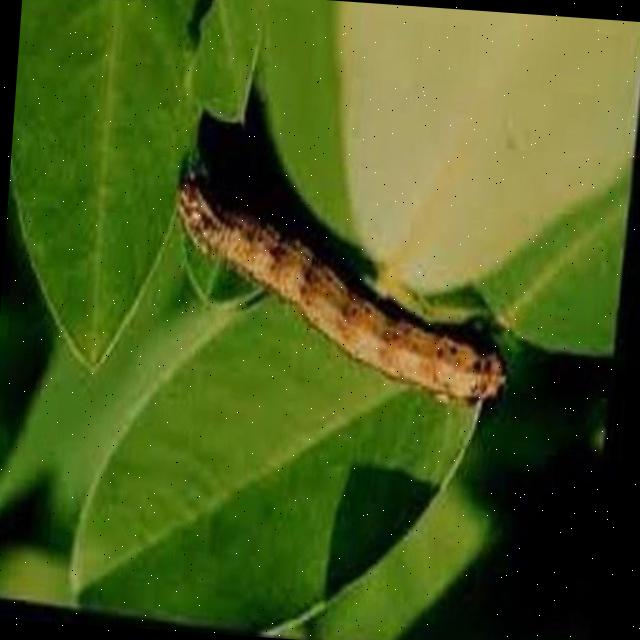worm: (162, 163, 521, 415)
